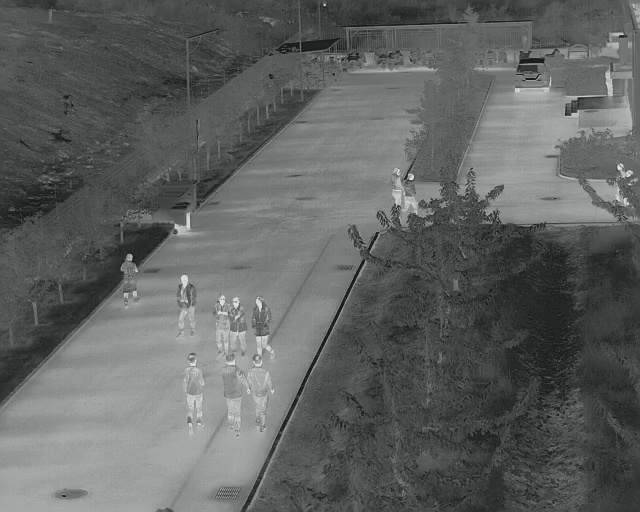person: (221, 352, 249, 438), (179, 349, 206, 437), (247, 353, 275, 434), (172, 272, 198, 340), (250, 294, 277, 355), (118, 251, 143, 309), (210, 291, 230, 352), (228, 296, 249, 351), (403, 172, 419, 214), (389, 166, 404, 205)
vehicle: (510, 56, 555, 96)
